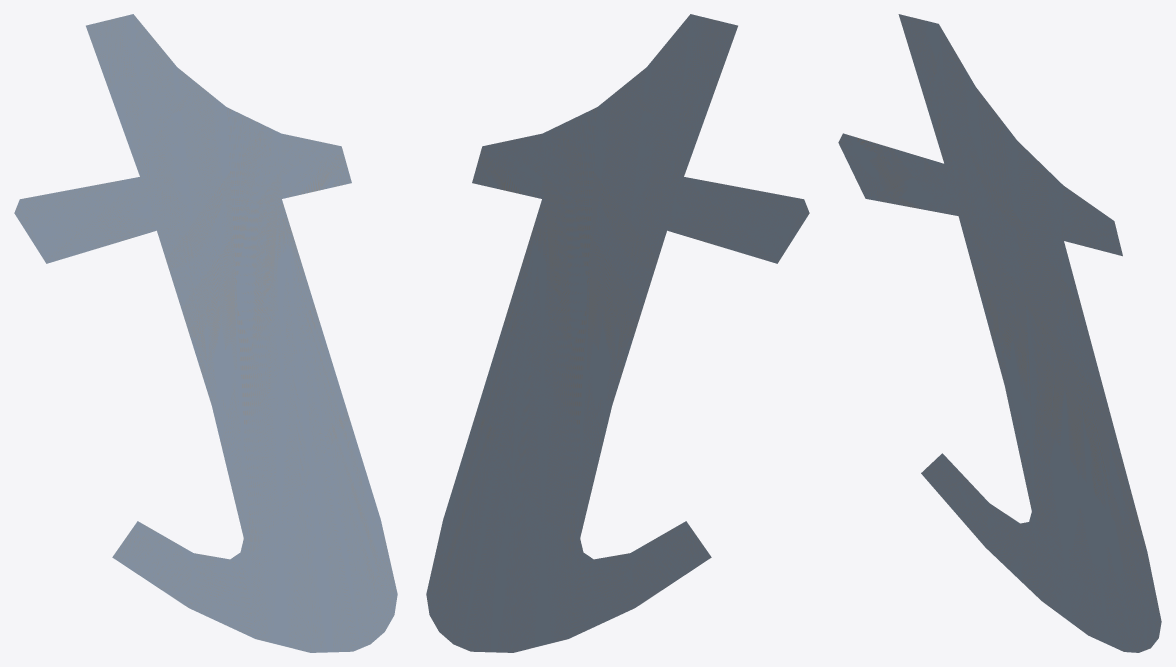
File: original-188.obj
3 renders of one model, left to right at view 1: azimuth 30°, elevation 25°; view 2: azimuth 150°, elevation 25°; view 3: azimuth 330°, elevation 25°, orthographic. The views are drawn at different scales.
Visible parts, largest first — view 1: #ID740; view 2: #ID740; view 3: #ID740.
Part boxes in pixels (<box>): #ID740: <box>14,14,397,652</box>; #ID740: <box>426,14,809,652</box>; #ID740: <box>838,14,1161,652</box>.
Size of the model in its own units: 0.00287 by 0.00494 by 0.
